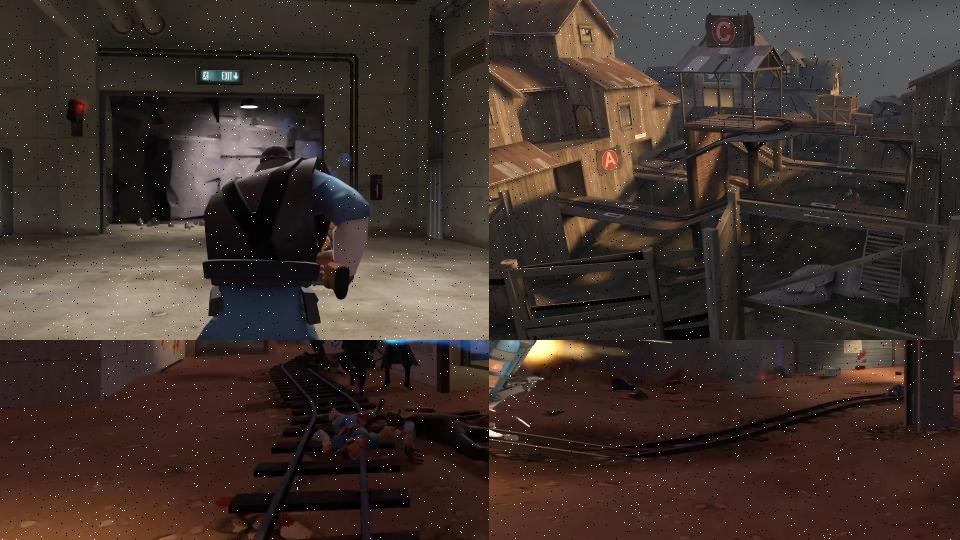Enemy: (179, 145, 364, 340), (386, 390, 489, 494), (312, 394, 412, 461), (330, 340, 381, 395), (376, 340, 419, 392), (301, 340, 342, 372)
